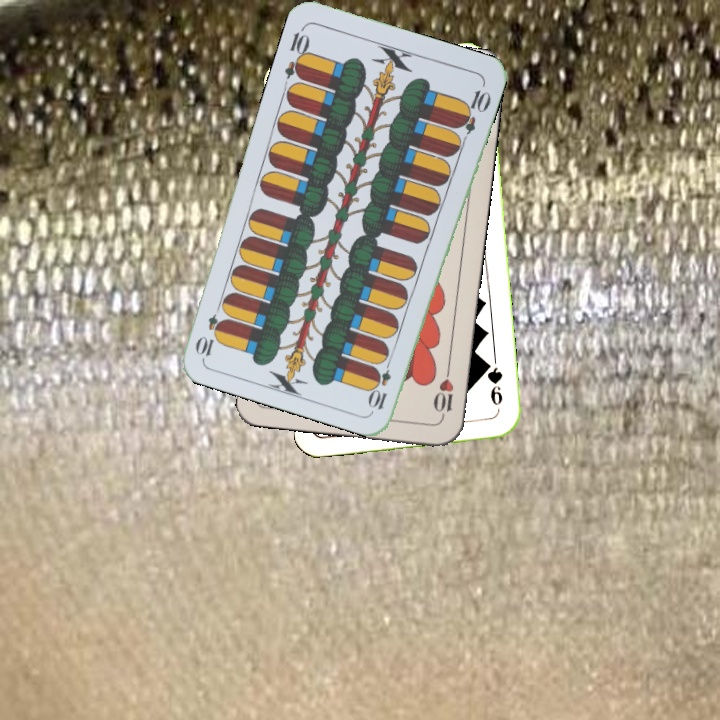E10: (280, 23, 313, 82), (367, 353, 394, 412)
G9: (481, 357, 505, 408)
H10: (430, 362, 457, 421)
